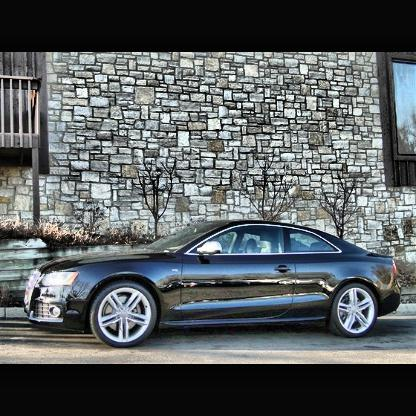Audi S5 Coupe 2012: (13, 206, 414, 364)
